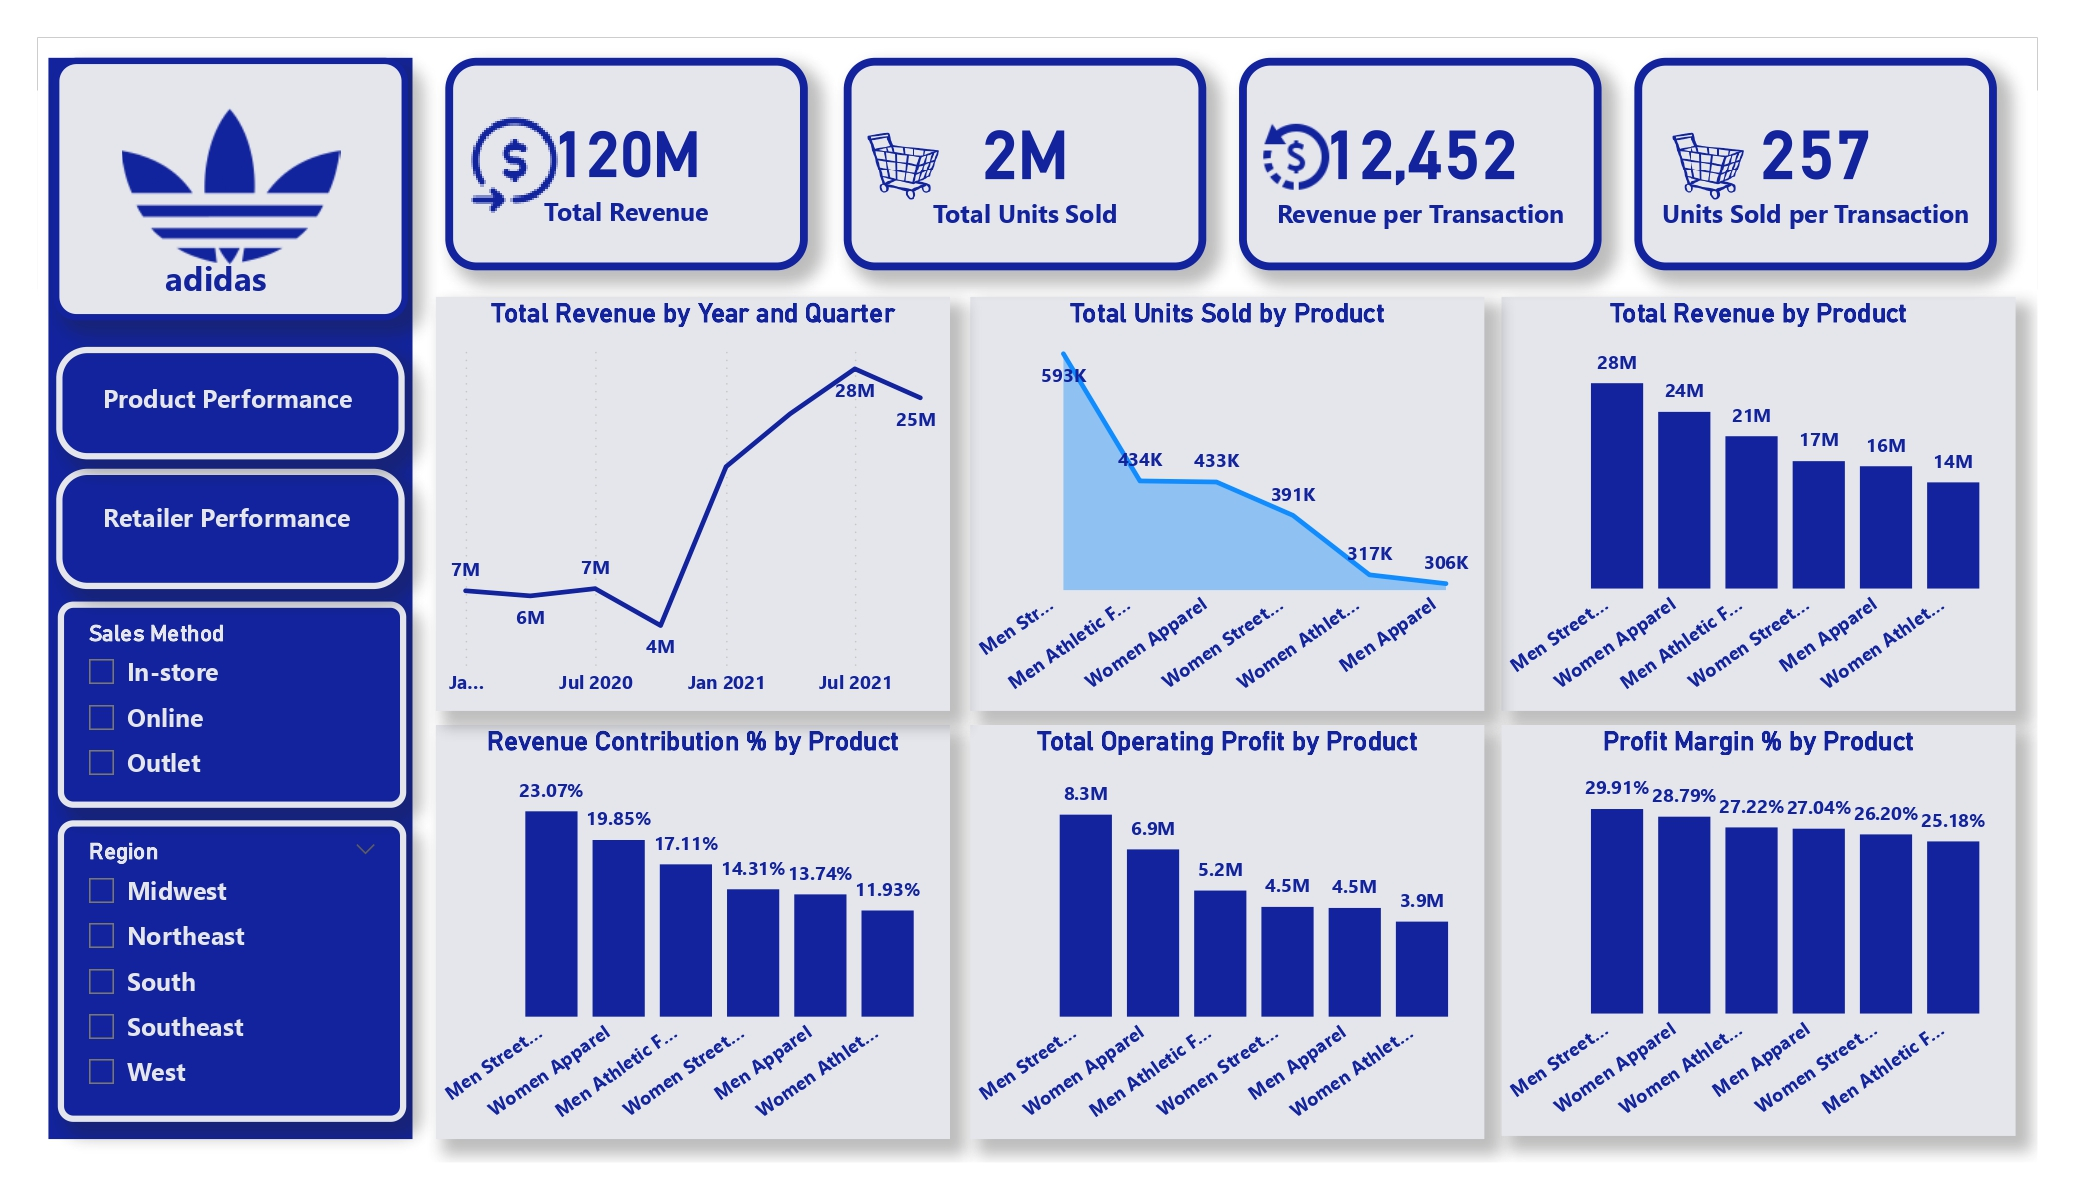

The page's visual inventory and layout, read from the dashboard file:
{"tool":"powerbi","page":{"name":"Product Performance","canvas":[1280,720],"ordinal":0},"visuals":[{"type":"textbox","box":[7,13,233,692],"z":0},{"type":"image","box":[10,13,227,168],"z":0,"group":"g1"},{"type":"card","fields":{"Values":["Avg(Adidas Shoe Sales.Total_Sales)"]},"box":[769.1,13.2,232.4,136.1],"z":1000,"group":"g6"},{"type":"textbox","box":[33.8,133.9,160.3,47.2],"z":1000,"group":"g1"},{"type":"columnChart","title":"Total Revenue by Product","fields":{"Category":["Adidas Shoe Sales.Product"],"Y":["Sum(Adidas Shoe Sales.Total_Sales)"]},"box":[937.3,166.3,328.8,264.6],"z":1000},{"type":"card","fields":{"Values":["Sum(Adidas Shoe Sales.Total_Sales)"]},"box":[261,13.2,232.4,136.1],"z":2000,"group":"g4"},{"type":"areaChart","title":"Total Units Sold by Product","fields":{"Category":["Adidas Shoe Sales.Product"],"Y":["Sum(Adidas Shoe Sales.Unit_Sold)"]},"box":[597.2,166.3,328.8,264.6],"z":2000},{"type":"card","fields":{"Values":["Sum(Adidas Shoe Sales.Unit_Sold)"]},"box":[516.1,13.2,232.4,136.1],"z":3000,"group":"g5"},{"type":"columnChart","fields":{"Y":["Adidas Shoe Sales.Revenue Contribution %"],"Category":["Adidas Shoe Sales.Product"]},"box":[255.1,440.3,328.8,264.6],"z":3000},{"type":"card","fields":{"Values":["Avg(Adidas Shoe Sales.Unit_Sold)"]},"box":[1022.4,13.2,232.4,136.1],"z":4000,"group":"g7"},{"type":"columnChart","title":"Total Operating Profit by Product","fields":{"Y":["Sum(Adidas Shoe Sales.Operating_Profit)"],"Category":["Adidas Shoe Sales.Product"]},"box":[597.2,440.3,328.8,264.6],"z":4000},{"type":"columnChart","fields":{"Y":["Adidas Shoe Sales.Profit Margin %"],"Category":["Adidas Shoe Sales.Product"]},"box":[937.3,440.3,328.8,262.7],"z":5000},{"type":"group","id":"g1","title":"Group 1","box":[10,13,227,168.2],"z":6000},{"type":"lineChart","title":"Total Revenue by Year and Quarter","fields":{"Y":["Sum(Adidas Shoe Sales.Total_Sales)"],"Category":["Adidas Shoe Sales.Invoice_Date.Variation.Date Hierarchy.Year","Adidas Shoe Sales.Invoice_Date.Variation.Date Hierarchy.Quarter"]},"box":[255.1,166.3,328.8,264.6],"z":7000},{"type":"slicer","fields":{"Values":["Adidas Shoe Sales.Sales_Method"]},"box":[13.2,360.9,223,132.3],"z":8000},{"type":"slicer","fields":{"Values":["Adidas Shoe Sales.Region"]},"box":[13.2,500.8,223,192.8],"z":9000},{"type":"group","id":"g2","title":"Group 3","box":[12,276,223,77.5],"z":10000},{"type":"group","id":"g3","title":"Group 2","box":[12,198,223,71.8],"z":11000},{"type":"group","id":"g4","title":"Group 4","box":[261,13.2,232.4,136.1],"z":12000},{"type":"group","id":"g5","title":"Group 5","box":[516.1,13.2,232.4,136.1],"z":13000},{"type":"group","id":"g6","title":"Group 6","box":[769.1,13.2,232.4,136.1],"z":14000},{"type":"group","id":"g7","title":"Group 7","box":[1022.4,13.2,232.4,136.1],"z":15000},{"type":"textbox","box":[33.2,215.3,181.3,41.8],"z":15000,"group":"g3"},{"type":"textbox","box":[20.4,291.2,206.3,47.2],"z":15000,"group":"g2"},{"type":"image","box":[266.7,35.9,77.5,90.7],"z":15001,"group":"g4"},{"type":"image","box":[769.1,45.3,73.7,62.4],"z":15003,"group":"g6"},{"type":"image","box":[521.8,51,64.3,60.5],"z":15004,"group":"g5"},{"type":"image","box":[1037.5,51,64.3,60.5],"z":15005,"group":"g7"},{"type":"actionButton","box":[12,198,223,71.8],"z":16000,"group":"g3"},{"type":"actionButton","box":[12,276,223,77.5],"z":16000,"group":"g2"}]}

Visuals, with their boxes on the page's 1280x720 design canvas (x1, y1, x2, y2). These are canvas units, not pixel positions in the 2075x1200 screenshot, which may show the page scaled, cropped or inside an application window:
textbox: (7,13,240,705)
image: (10,13,237,181)
card - Avg(Adidas Shoe Sales.Total_Sales): (769,13,1002,149)
textbox: (34,134,194,181)
"Total Revenue by Product" columnChart: (937,166,1266,431)
card - Sum(Adidas Shoe Sales.Total_Sales): (261,13,493,149)
"Total Units Sold by Product" areaChart: (597,166,926,431)
card - Sum(Adidas Shoe Sales.Unit_Sold): (516,13,748,149)
columnChart - Adidas Shoe Sales.Revenue Contribution % x Adidas Shoe Sales.Product: (255,440,584,705)
card - Avg(Adidas Shoe Sales.Unit_Sold): (1022,13,1255,149)
"Total Operating Profit by Product" columnChart: (597,440,926,705)
columnChart - Adidas Shoe Sales.Profit Margin % x Adidas Shoe Sales.Product: (937,440,1266,703)
"Group 1" group: (10,13,237,181)
"Total Revenue by Year and Quarter" lineChart: (255,166,584,431)
slicer - Adidas Shoe Sales.Sales_Method: (13,361,236,493)
slicer - Adidas Shoe Sales.Region: (13,501,236,694)
"Group 3" group: (12,276,235,354)
"Group 2" group: (12,198,235,270)
"Group 4" group: (261,13,493,149)
"Group 5" group: (516,13,748,149)
"Group 6" group: (769,13,1002,149)
"Group 7" group: (1022,13,1255,149)
textbox: (33,215,214,257)
textbox: (20,291,227,338)
image: (267,36,344,127)
image: (769,45,843,108)
image: (522,51,586,112)
image: (1038,51,1102,112)
actionButton: (12,198,235,270)
actionButton: (12,276,235,354)
